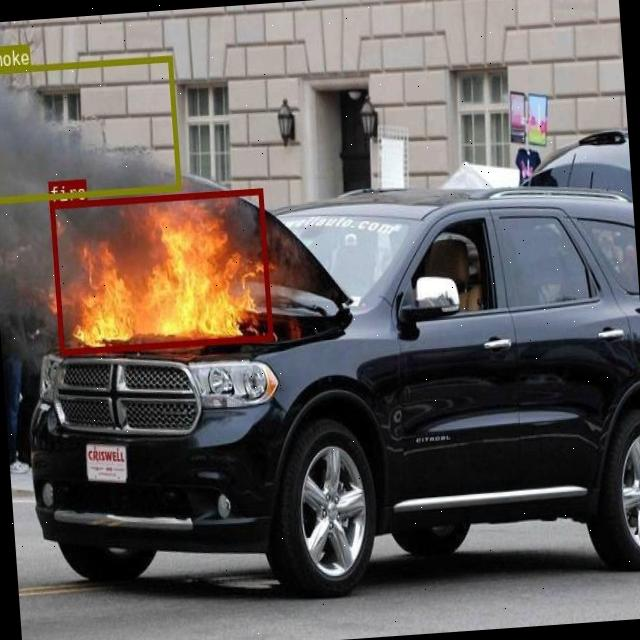fire: (48, 188, 271, 354)
smoke: (0, 54, 180, 202)
